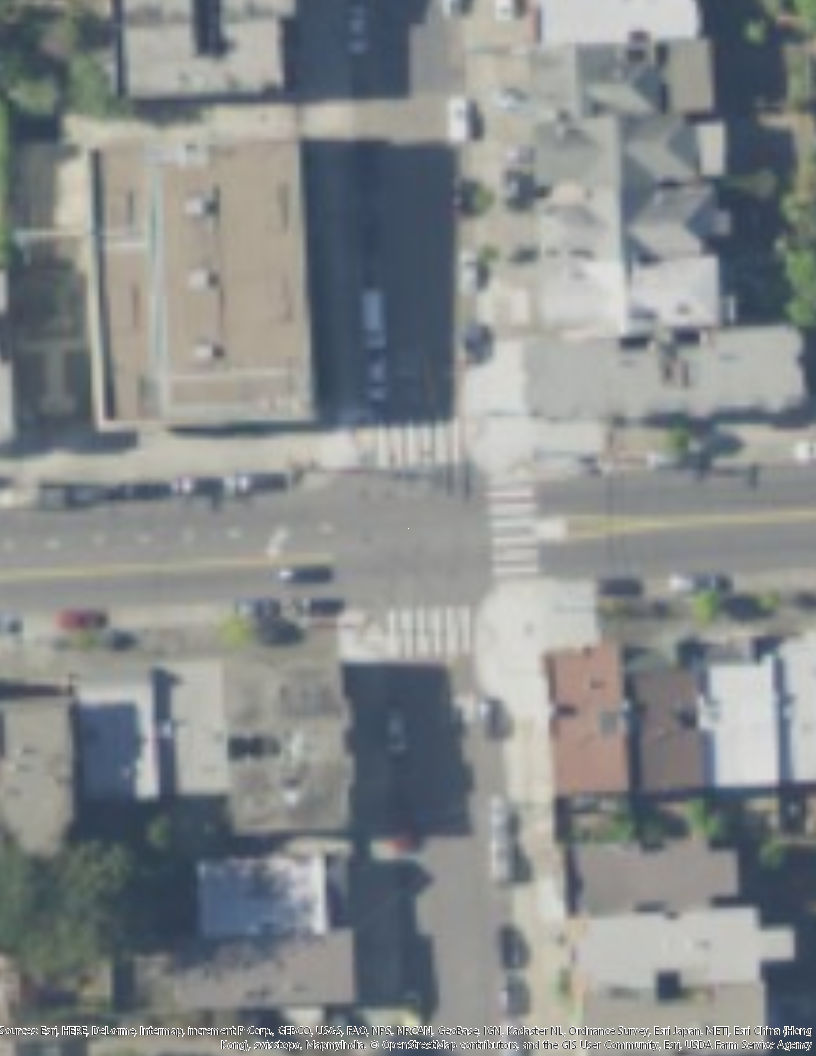zebracross: (489, 470, 545, 577), (377, 607, 477, 665), (373, 417, 471, 472)
